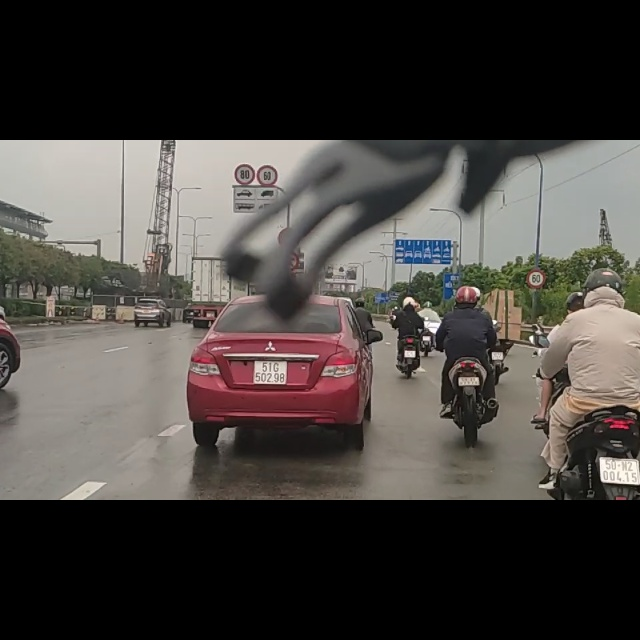bien_cam: (234, 41, 255, 81), (257, 44, 277, 82)
